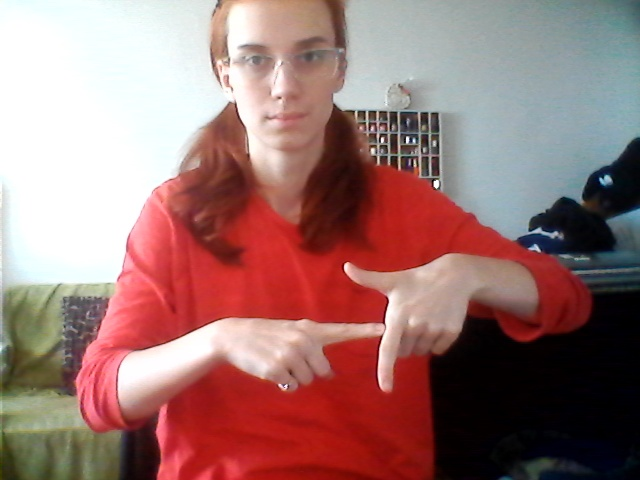f: (245, 253, 471, 418)
